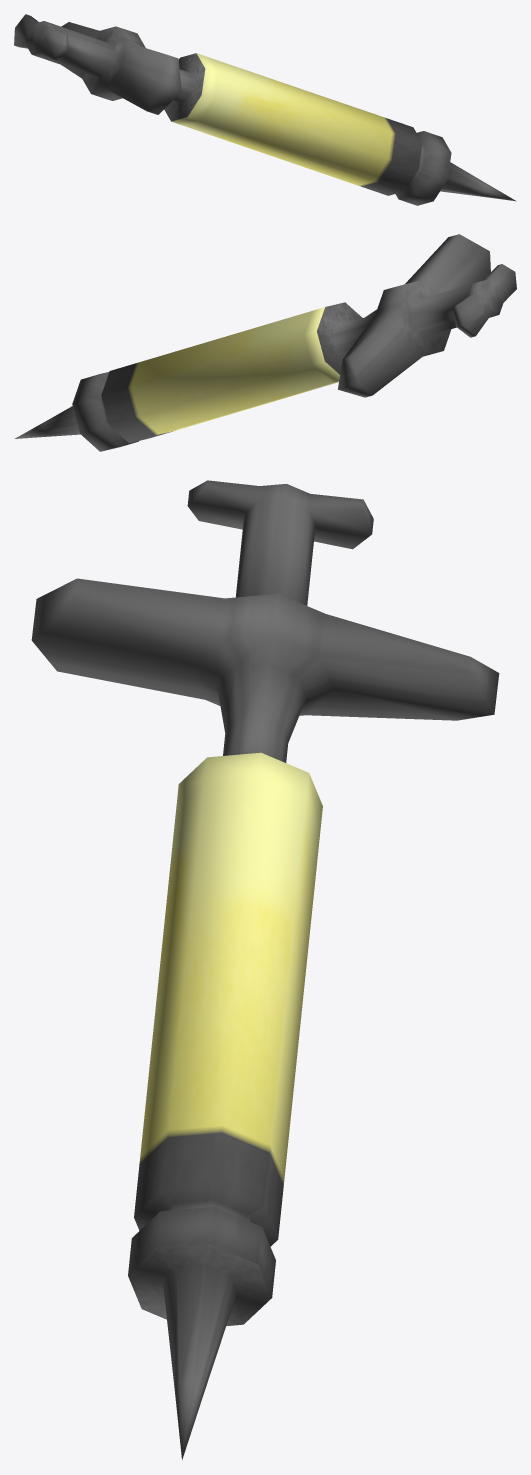
File: Adrenaline.fbx
3 views of the same model, one above another, from view 1: azimuth 30°, elevation 25°; view 2: azimuth 150°, elevation 25°; view 3: azimuth 270°, elevation 25° (orthographic). The views are drawn at different scales.
Parts seen in each view (by area): view 1: Adrenaline; view 2: Adrenaline; view 3: Adrenaline.
Part boxes in pixels (<box>): Adrenaline: <box>14,14,516,205</box>; Adrenaline: <box>15,234,516,451</box>; Adrenaline: <box>31,480,499,1459</box>.
Bounding box in the file's own units: 117 × 65.59 × 51.12.
